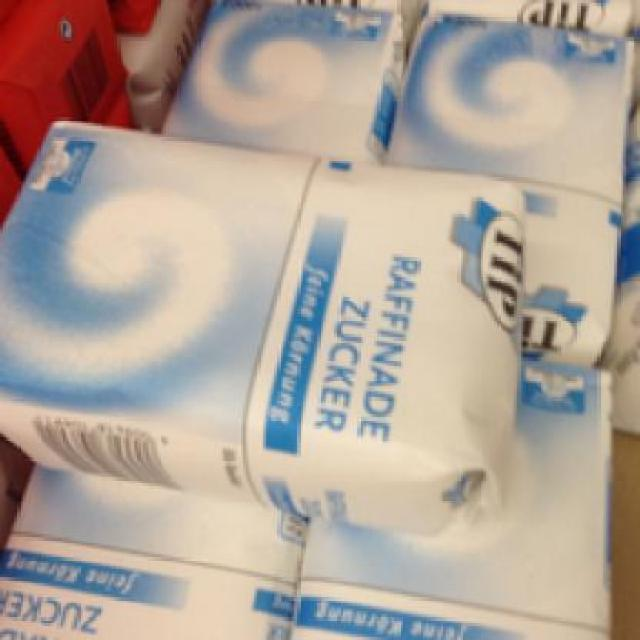Sugar: (0, 117, 523, 523), (288, 340, 612, 637), (388, 11, 628, 363), (160, 3, 406, 166)
